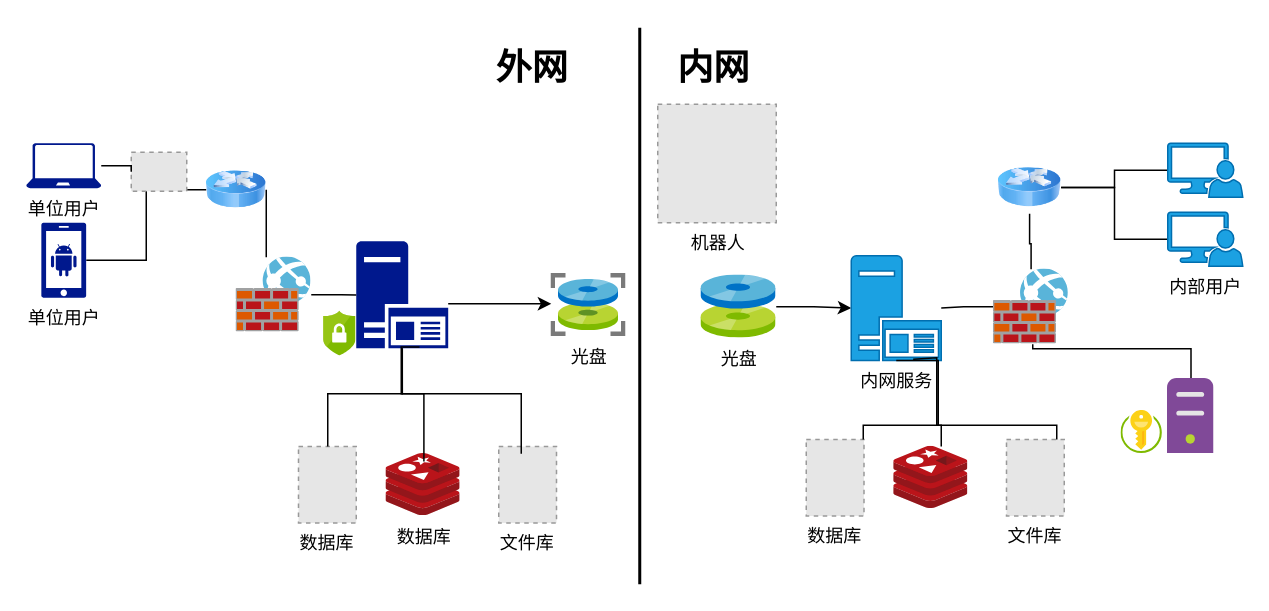
This 1269x611 diagram has some shape labels left out. Grey dashed boxes stand in for pictures. Here are the shapes that lost their labels. From the top down, the centre of each, then its label:
At point (401, 294): "外网服务".
At point (1190, 415): "其它系统".
At point (930, 477): "内存数据库".
